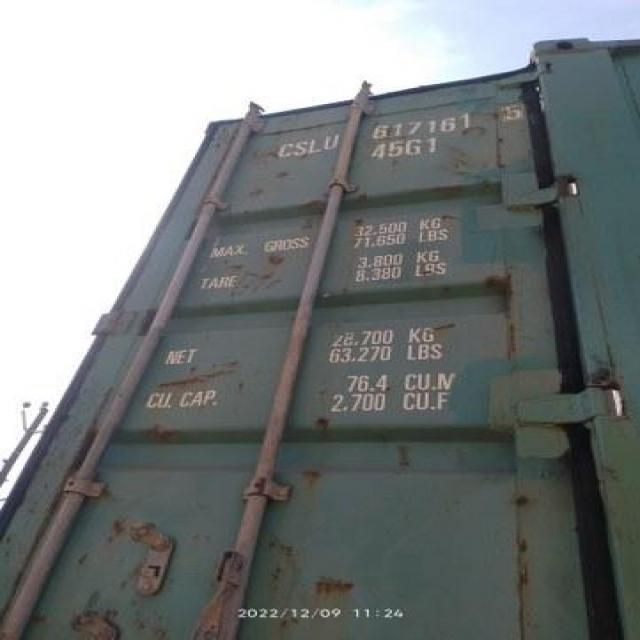container_number_h: (236, 99, 553, 188)
